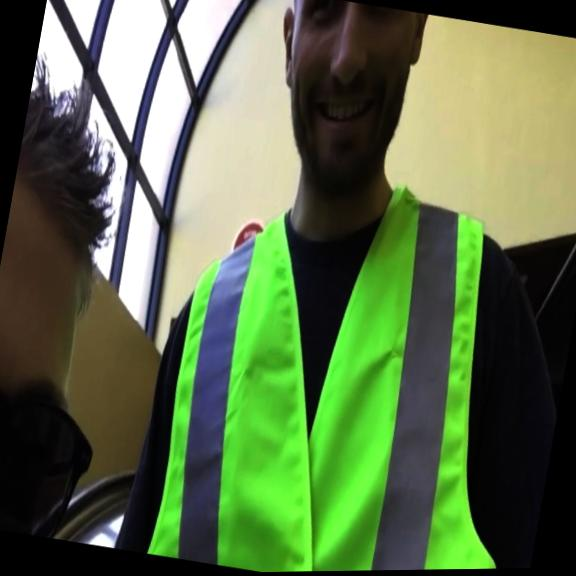safety_vest: (143, 152, 560, 574)
